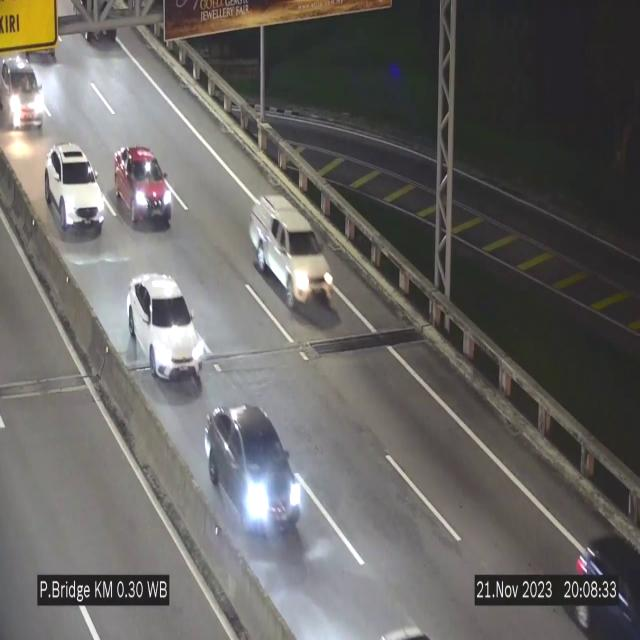Car: (206, 402, 304, 538), (247, 192, 336, 310), (564, 514, 640, 640), (127, 274, 205, 381), (45, 143, 105, 234), (114, 146, 172, 228), (0, 39, 50, 133)
